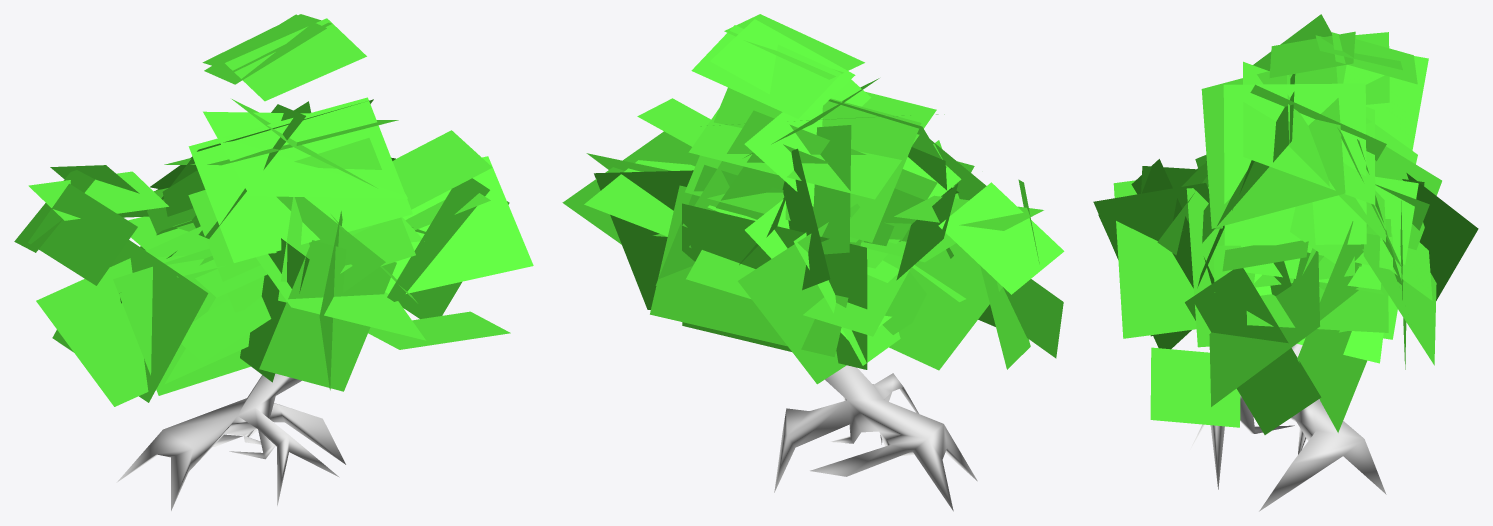
File: TreeA 1 LOD2.fbx
3 views of the same model, side by side, from view 1: azimuth 30°, elevation 25°; view 2: azimuth 150°, elevation 25°; view 3: azimuth 270°, elevation 25° (orthographic). The views are drawn at different scales.
Visible parts, largest first — view 1: TreeA 1 LOD 2; view 2: TreeA 1 LOD 2; view 3: TreeA 1 LOD 2.
Boxes of the visible parts, x1,y1,x2,y2 form: TreeA 1 LOD 2: (14, 14, 533, 510); TreeA 1 LOD 2: (562, 14, 1064, 511); TreeA 1 LOD 2: (1093, 14, 1478, 511).
Size of the model in its own units: 6.19 by 8.34 by 9.92.
